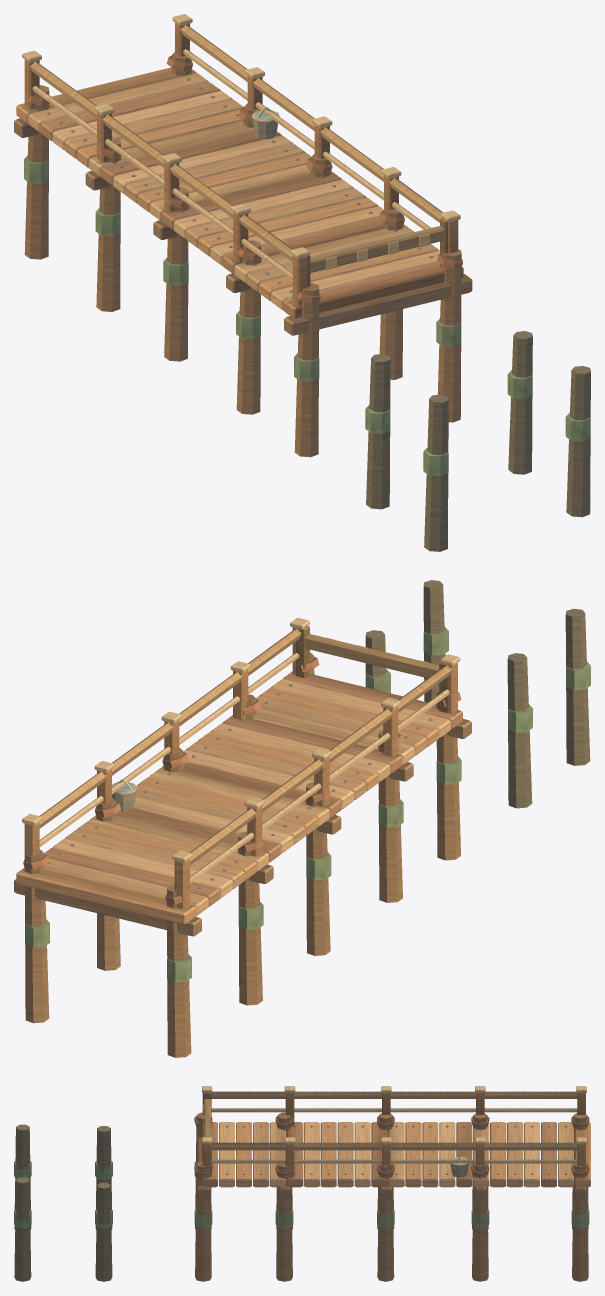
File: pier_rails.glb
3 views of the same model, one above another, from view 1: azimuth 30°, elevation 25°; view 2: azimuth 150°, elevation 25°; view 3: azimuth 270°, elevation 25° (orthographic). The views are drawn at different scales.
Parts seen in each view (by area): view 1: Fischersteg · rails; view 2: Fischersteg · rails; view 3: Fischersteg · rails.
Boxes of the visible parts, bbox=[...] form: Fischersteg · rails: bbox=[14, 14, 590, 551]; Fischersteg · rails: bbox=[14, 580, 590, 1057]; Fischersteg · rails: bbox=[14, 1086, 590, 1281].
Bounding box in the file's own units: 2.4 × 2.54 × 9.46.
2 materials, 2 textured.
